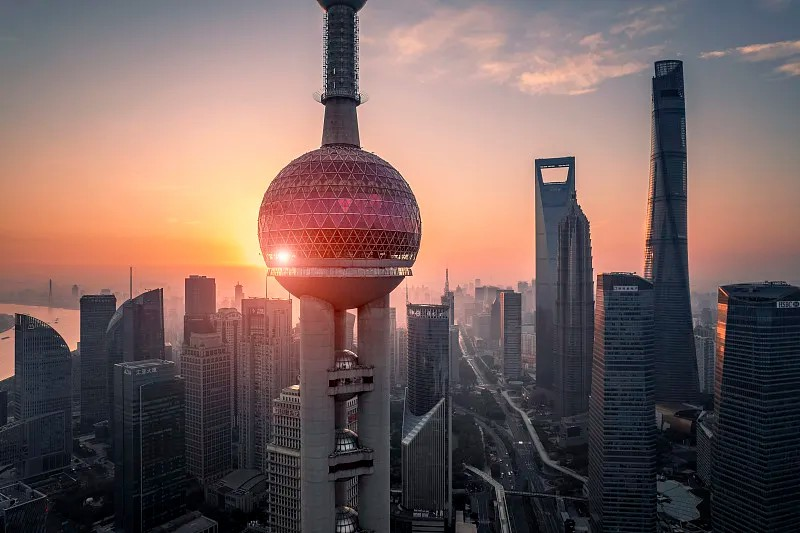Oriental: (259, 1, 422, 533)
